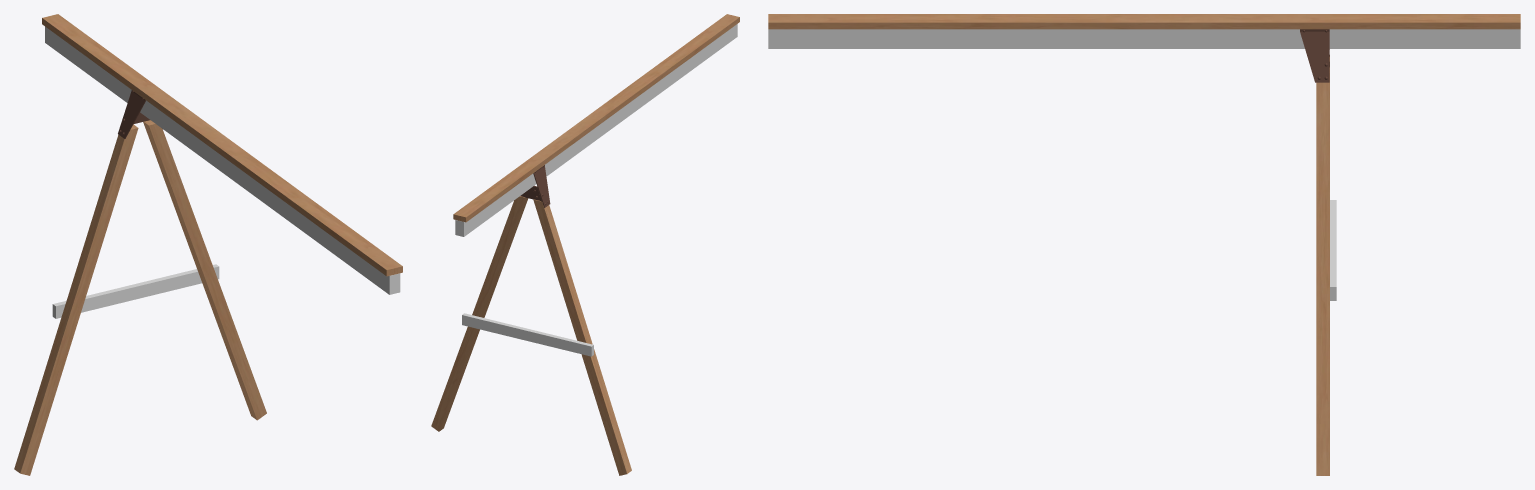
3 views of the same model, side by side, from view 1: azimuth 30°, elevation 25°; view 2: azimuth 150°, elevation 25°; view 3: azimuth 270°, elevation 25° (orthographic). The views are drawn at different scales.
Parts seen in each view (by area): view 1: Plane073, Plane073_1,_colorize_, Plane073_2; view 2: Plane073, Plane073_1,_colorize_, Plane073_2; view 3: Plane073, Plane073_1,_colorize_, Plane073_2.
Boxes of the visible parts, <box> form: Plane073: <box>14,14,402,475</box>; Plane073_1,_colorize_: <box>45,26,400,318</box>; Plane073_2: <box>118,90,149,138</box>; Plane073: <box>431,14,739,475</box>; Plane073_1,_colorize_: <box>455,24,737,356</box>; Plane073_2: <box>520,165,550,207</box>; Plane073: <box>768,14,1520,475</box>; Plane073_1,_colorize_: <box>768,29,1520,300</box>; Plane073_2: <box>1300,29,1329,82</box>.
Size of the model in its own units: 2.36 by 3.33 by 5.72.
Materials: 3 (1 with a texture image).
